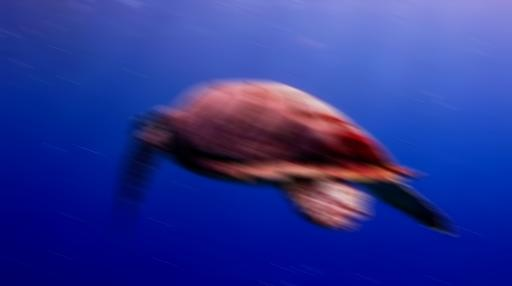Fish: (120, 81, 449, 232)
